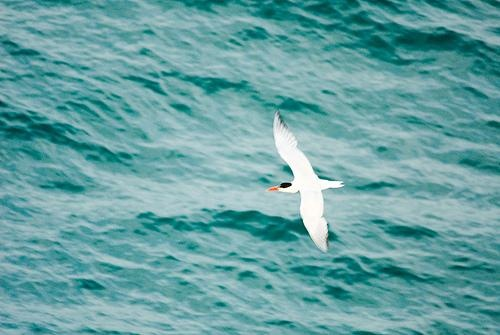bird: (264, 108, 341, 255)
